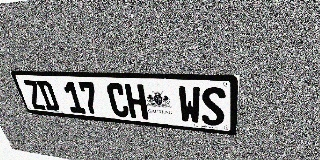1: (61, 81, 86, 114)
7: (77, 82, 102, 115)
C: (105, 83, 130, 118)
D: (36, 80, 60, 111)
H: (124, 84, 149, 119)
S: (201, 87, 226, 127)
W: (178, 86, 201, 124)
Z: (22, 80, 47, 110)
